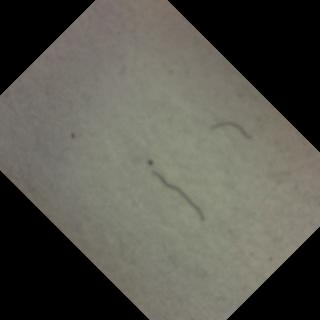Microplastic: (129, 140, 224, 235), (192, 91, 268, 168)
